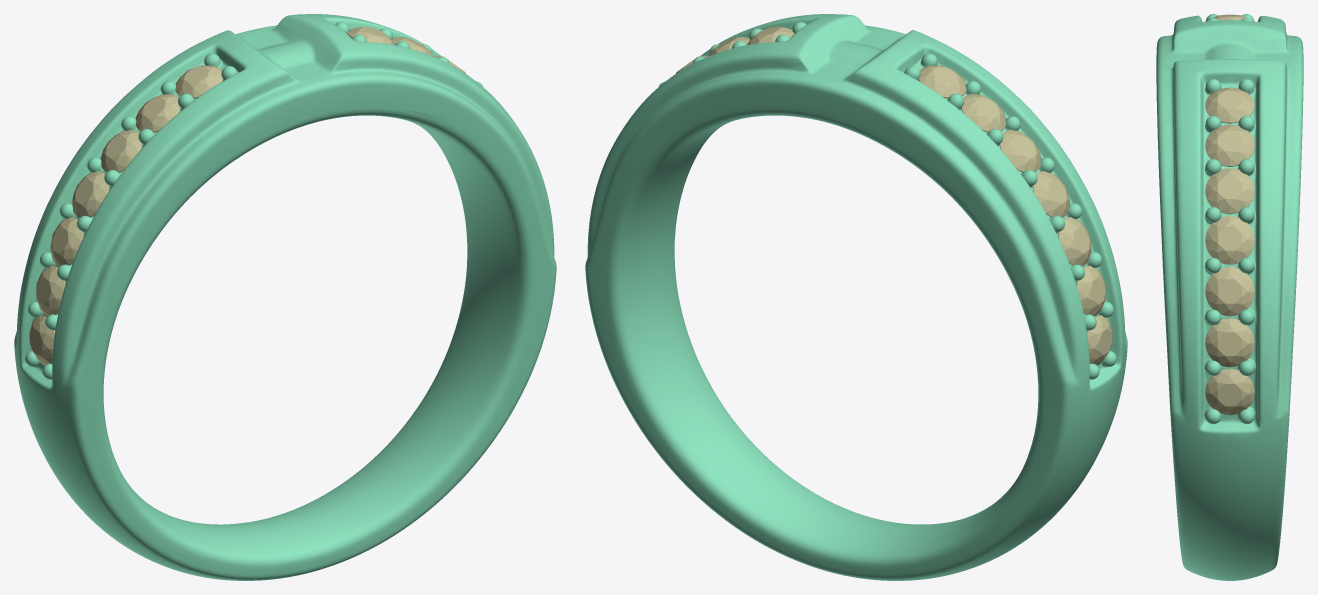
The picture shows the model from 3 angles, left to right: view 1: azimuth 30°, elevation 25°; view 2: azimuth 150°, elevation 25°; view 3: azimuth 270°, elevation 25°; orthographic projection. The views are drawn at different scales.
Visible parts, largest first — view 1: Metal02, Diamond_Gem.001, Diamond_Gem.007, Diamond_Gem.002, Diamond_Gem.006, Diamond_Gem.003, Diamond_Gem.005, Diamond_Gem.004; view 2: Metal02, Diamond_Gem.001, Diamond_Gem.007, Diamond_Gem.002, Diamond_Gem.006, Diamond_Gem.003, Diamond_Gem.005, Diamond_Gem.004; view 3: Metal02, Diamond_Gem.012, Diamond_Gem.011, Diamond_Gem.013, Diamond_Gem.010, Diamond_Gem, Diamond_Gem.008, Diamond_Gem.009.
Part boxes in pixels (left/top/right/bottom): Metal02: left=14, top=14, right=556, bottom=580; Diamond_Gem.001: left=100, top=129, right=142, bottom=172; Diamond_Gem.007: left=72, top=171, right=109, bottom=217; Diamond_Gem.002: left=135, top=94, right=180, bottom=132; Diamond_Gem.006: left=50, top=217, right=83, bottom=266; Diamond_Gem.003: left=175, top=65, right=223, bottom=98; Diamond_Gem.005: left=36, top=265, right=65, bottom=316; Diamond_Gem.004: left=29, top=315, right=55, bottom=365; Metal02: left=585, top=14, right=1127, bottom=580; Diamond_Gem.001: left=999, top=129, right=1041, bottom=172; Diamond_Gem.007: left=1032, top=171, right=1069, bottom=217; Diamond_Gem.002: left=961, top=94, right=1006, bottom=132; Diamond_Gem.006: left=1058, top=217, right=1091, bottom=266; Diamond_Gem.003: left=918, top=65, right=966, bottom=98; Diamond_Gem.005: left=1076, top=265, right=1105, bottom=316; Diamond_Gem.004: left=1086, top=315, right=1112, bottom=365; Metal02: left=1156, top=14, right=1303, bottom=580; Diamond_Gem.012: left=1205, top=267, right=1254, bottom=316; Diamond_Gem.011: left=1205, top=318, right=1254, bottom=366; Diamond_Gem.013: left=1205, top=216, right=1254, bottom=264; Diamond_Gem.010: left=1205, top=368, right=1254, bottom=415; Diamond_Gem: left=1205, top=168, right=1254, bottom=214; Diamond_Gem.008: left=1205, top=124, right=1254, bottom=166; Diamond_Gem.009: left=1205, top=87, right=1254, bottom=123.
Bounding box in the file's own units: 21.64 × 21.77 × 5.67.
